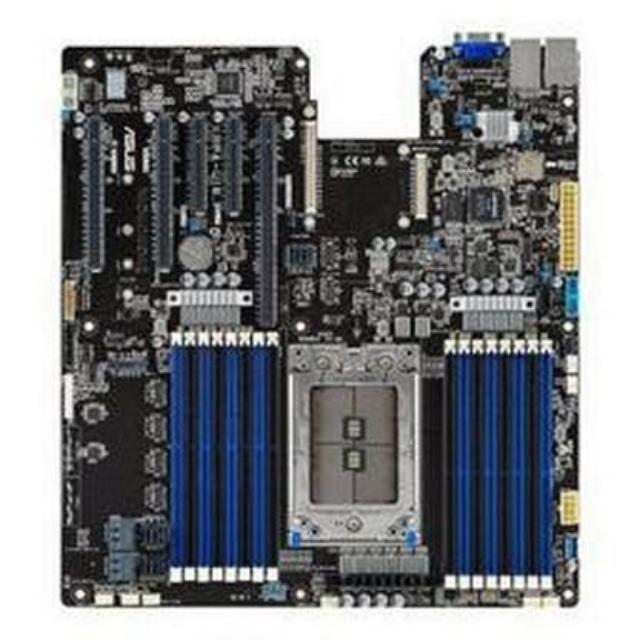Mainboard: (68, 26, 577, 611)
